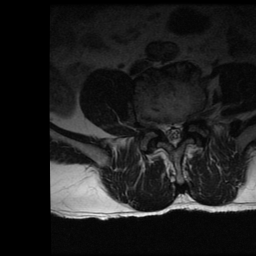CCS_normal: (169, 119, 178, 150)
LFS_stenosis: (185, 111, 193, 131)
LLS_normal: (176, 117, 185, 139)
RFS_normal: (151, 118, 160, 137)
RLS_normal: (161, 119, 168, 140)
